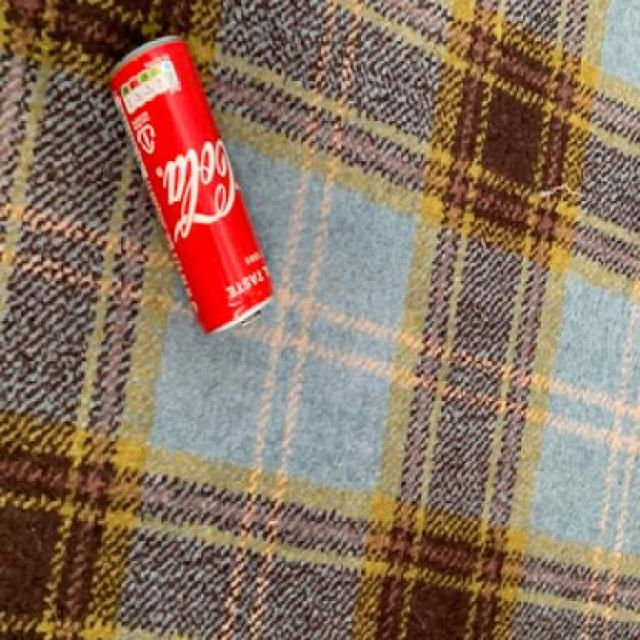Metal: (106, 34, 275, 336)
